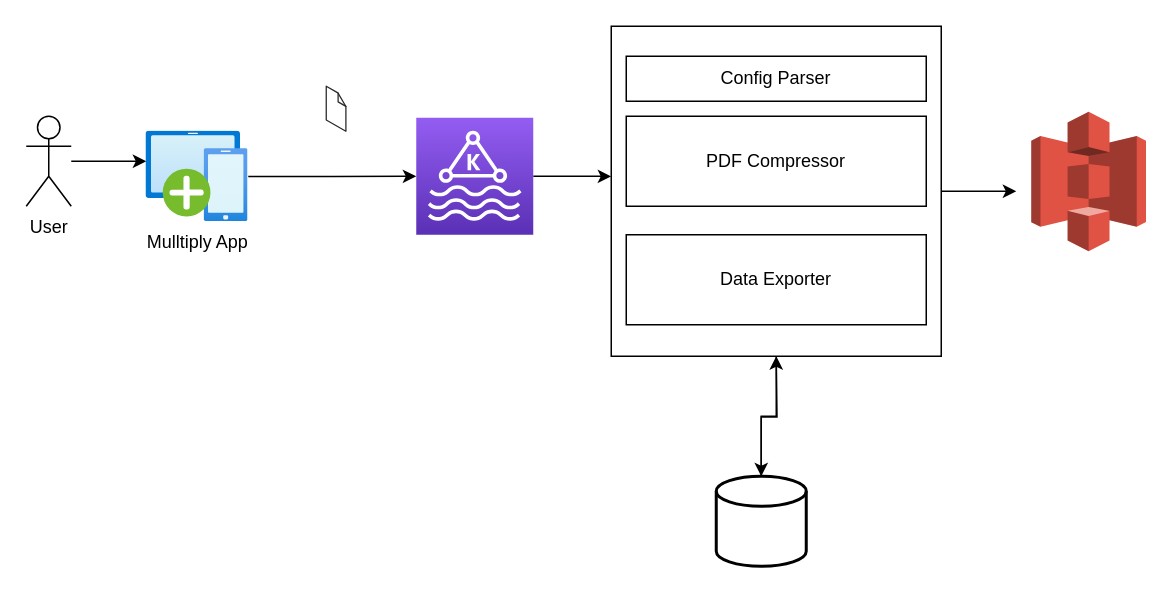
Some shapes in this 1173 by 594 pixel diagram are drawn without their labels. Each missing label, with the centre of its shape:
Config file: the point at 335,108
DB: the point at 760,520
S3: the point at 1088,180
